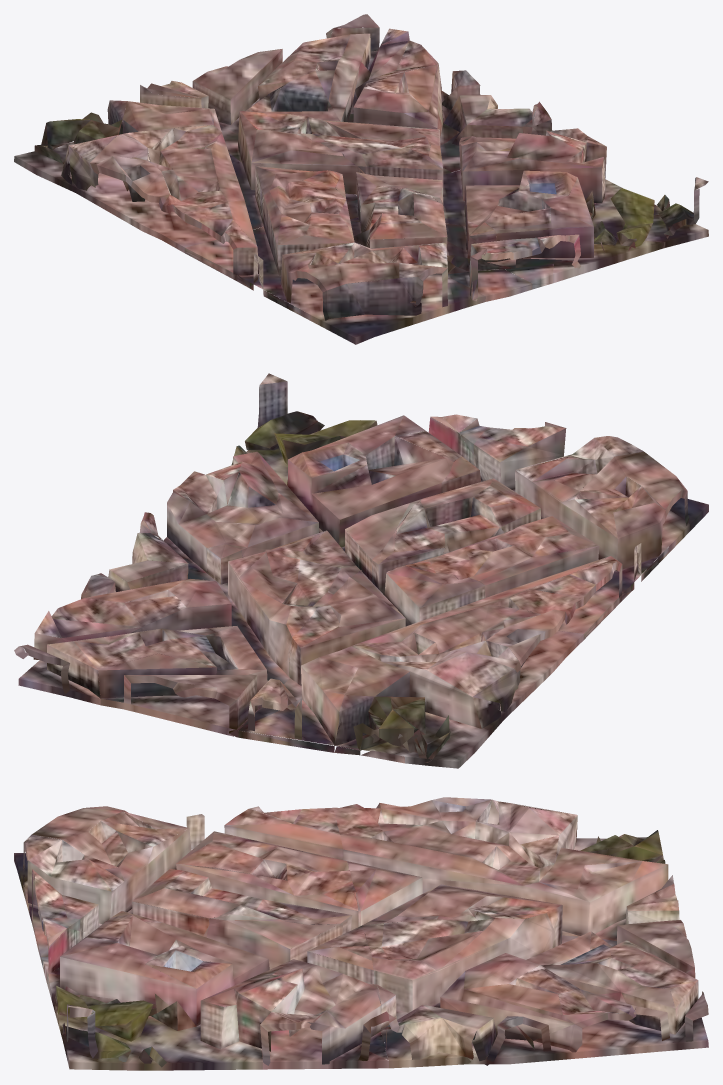
The picture shows the model from 3 angles, top to bottom: view 1: azimuth 30°, elevation 25°; view 2: azimuth 150°, elevation 25°; view 3: azimuth 270°, elevation 25°; orthographic projection. The views are drawn at different scales.
Parts seen in each view (by area): view 1: Mesh_0; view 2: Mesh_0; view 3: Mesh_0.
Boxes of the visible parts, x1,y1,x2,y2 form: Mesh_0: [14, 14, 708, 344]; Mesh_0: [14, 373, 708, 768]; Mesh_0: [14, 797, 708, 1070].
Bounding box in the file's own units: 266 × 44.58 × 330.
2 materials, 2 textured.
